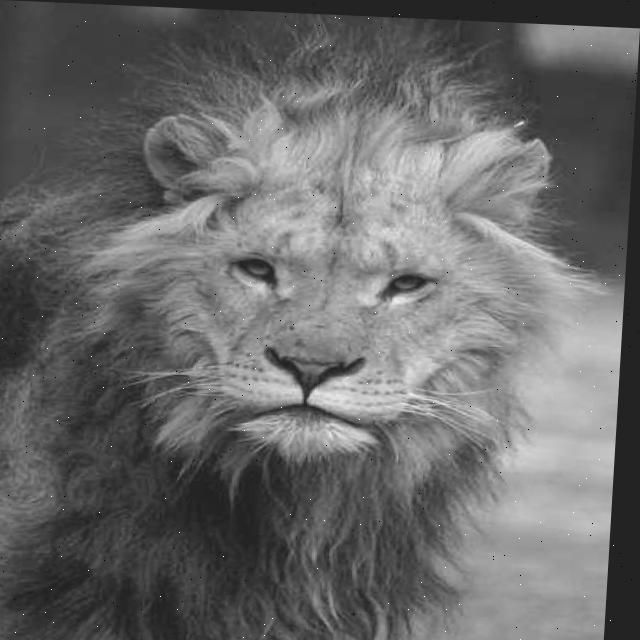Lion: (35, 20, 639, 640)
